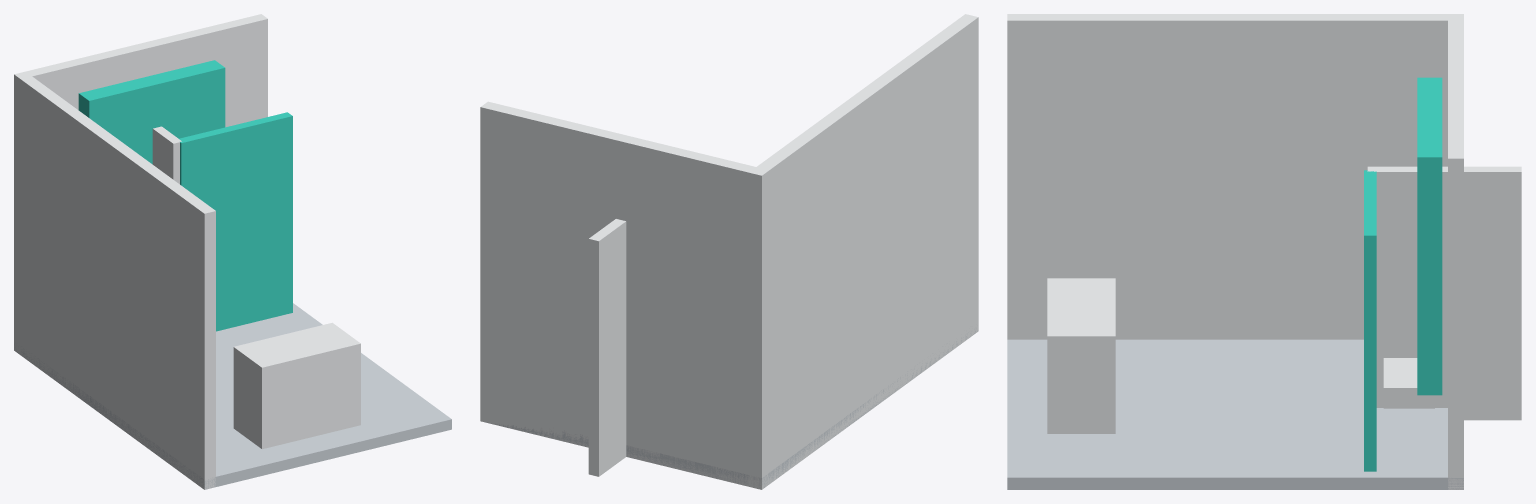
The picture shows the model from 3 angles, left to right: view 1: azimuth 30°, elevation 25°; view 2: azimuth 150°, elevation 25°; view 3: azimuth 270°, elevation 25°; orthographic projection. The views are drawn at different scales.
Visible parts, largest first — view 1: Exhibition Booth Concept; view 2: Exhibition Booth Concept; view 3: Exhibition Booth Concept.
Boxes of the visible parts, x1,y1,x2,y2 form: Exhibition Booth Concept: (14,14,451,489); Exhibition Booth Concept: (480,14,978,489); Exhibition Booth Concept: (1007,14,1521,489).
Size of the model in its own units: 3 by 3.2 by 4.51.
